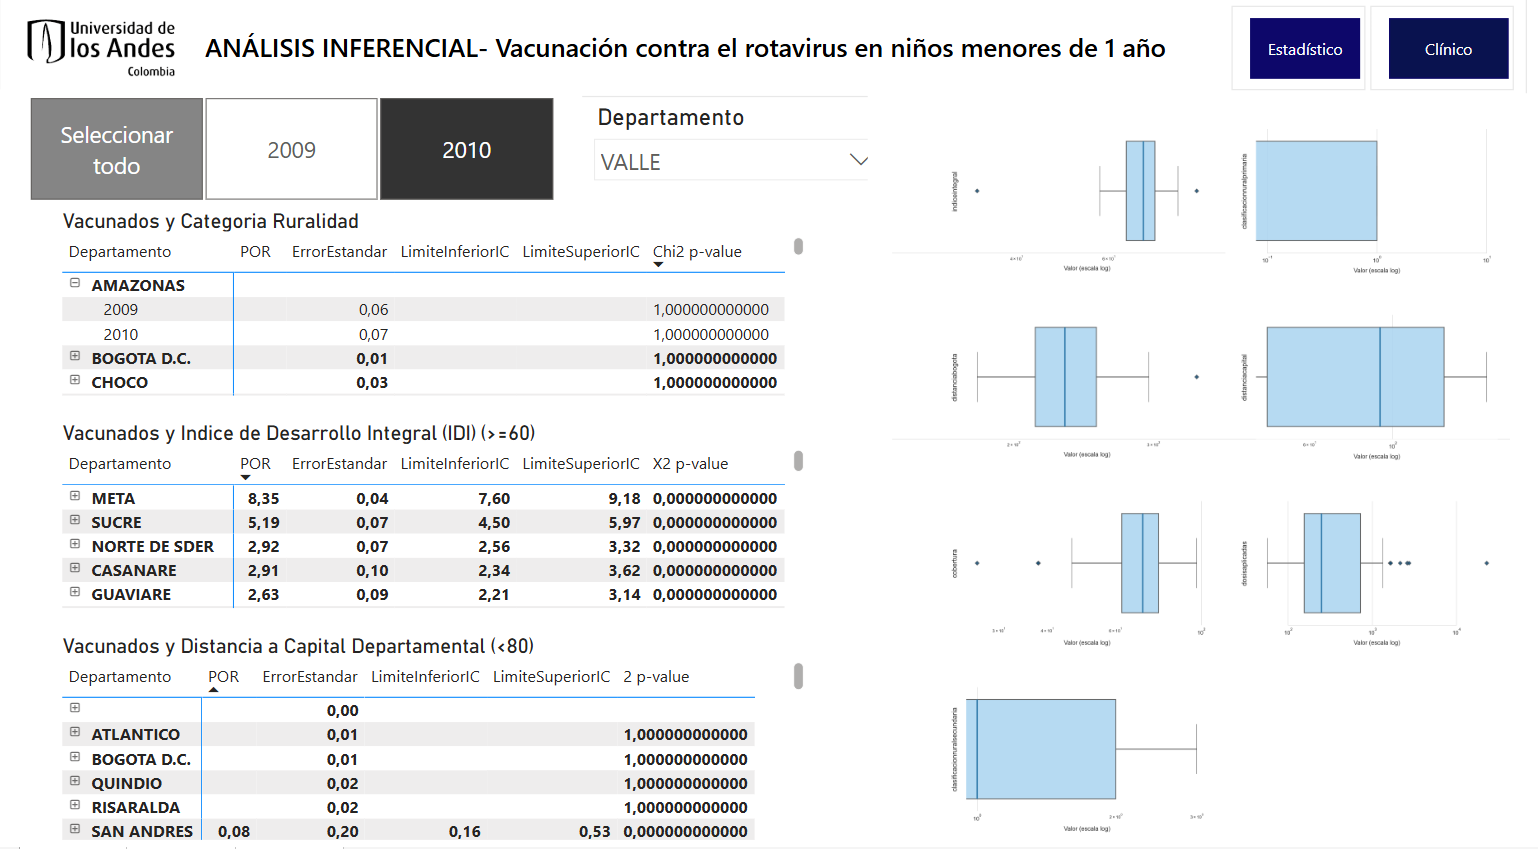

What the dashboard file says about the page in this screenshot:
{"tool":"powerbi","page":{"name":"Página 1","canvas":[1280,720],"ordinal":0},"visuals":[{"type":"group","id":"g1","title":"Group 1","box":[0,16,1264,80],"z":0},{"type":"shape","title":"null","box":[0,16,1266,84],"z":0,"group":"g1"},{"type":"image","box":[8,19,152,80],"z":0,"group":"g4"},{"type":"actionButton","box":[1036.3,33.9,91,50],"z":0,"group":"g6"},{"type":"actionButton","box":[1151.5,33.9,99,50],"z":0,"group":"g7"},{"type":"shape","title":"null","box":[896,104,384,75],"z":0,"group":"g10"},{"type":"slicer","fields":{"Values":["dimlugar.departamento"]},"box":[1088,125,191,33],"z":0,"group":"g2"},{"type":"shape","title":"null","box":[420.9,214,435,132],"z":0,"group":"g8"},{"type":"shape","title":"null","box":[421.9,352,434,97],"z":0,"group":"g12"},{"type":"shape","box":[423.9,370,430,20],"z":0,"group":"g3"},{"type":"shape","box":[487.9,417.8,312,16.2],"z":0,"group":"g5"},{"type":"shape","title":"null","box":[445.9,457,410,243],"z":0,"group":"g11"},{"type":"shape","title":"null","box":[10.9,460,427,236],"z":0,"group":"g9"},{"type":"pythonVisual","title":"Title goes here","fields":{"Values":["dimfecha.fecha","factmetricasdesarrollo.indiceintegral","dimlugar.codigomunicipio","dimlugar.departamento"]},"box":[446.9,488,407,210],"z":5,"group":"g11"},{"type":"pythonVisual","title":"Title goes here","fields":{"Values":["factmetricasdesarrollo.clasificacionruralprimaria","dimlugar.codigomunicipio"]},"box":[11.9,491,424,203],"z":5,"group":"g9"},{"type":"shape","title":"null","box":[898,125,190,20],"z":10,"group":"g2"},{"type":"shape","box":[11.9,461,424,30],"z":60,"group":"g9"},{"type":"group","id":"g2","title":"Group 1","box":[897,124,381,35],"z":70,"group":"g10"},{"type":"shape","box":[446.9,458,407,30],"z":80,"group":"g11"},{"type":"group","id":"g3","title":"Group 1","box":[423.9,370,430,64],"z":90,"group":"g12"},{"type":"group","id":"g4","title":"Group 1","box":[8,19,1258,80],"z":1000,"group":"g1"},{"type":"shape","title":"null","box":[1020.8,23.5,111,70],"z":1000},{"type":"shape","box":[160,43,1106,30],"z":1000,"group":"g4"},{"type":"shape","box":[421.9,215,431,20],"z":1000,"group":"g8"},{"type":"group","id":"g5","title":"Group 1","box":[487.9,394,312,40],"z":1000,"group":"g3"},{"type":"card","fields":{"Values":["Avg(factmetricasdesarrollo.indiceintegral)"]},"box":[575.9,394,128,24],"z":1000,"group":"g5"},{"type":"shape","title":"null","box":[1136,23.5,119,70],"z":2000},{"type":"shape","box":[421.9,289,135,30],"z":2000,"group":"g8"},{"type":"group","id":"g6","title":"Group 1","box":[1036.3,33.9,91,50],"z":3000},{"type":"shape","box":[568.9,289,135,30],"z":3000,"group":"g8"},{"type":"group","id":"g7","title":"Group 1","box":[1151.5,33.9,99,50],"z":4000},{"type":"shape","box":[715.9,289,135,30],"z":4000,"group":"g8"},{"type":"group","id":"g8","title":"Group 1","box":[420.9,214,435,132],"z":5000},{"type":"card","fields":{"Values":["Sum(factvacuna.poblacion)"]},"box":[421.9,259,135,30],"z":5000,"group":"g8"},{"type":"shape","box":[556.9,254,12,65],"z":6000,"group":"g8"},{"type":"group","id":"g9","title":"Group 1","box":[10.9,460,427,236],"z":6000},{"type":"group","id":"g10","title":"Group 1","box":[896,104,384,75],"z":7000},{"type":"card","fields":{"Values":["Sum(factvacuna.dosisaplicadas)"]},"box":[564.9,262,136,24],"z":7000,"group":"g8"},{"type":"shape","box":[703.9,259,12,65],"z":8000,"group":"g8"},{"type":"group","id":"g11","title":"Group 1","box":[445.9,457,410,243],"z":8000},{"type":"card","fields":{"Values":["Avg(factvacuna.cobertura)"]},"box":[748.9,262,72,24],"z":9000,"group":"g8"},{"type":"group","id":"g12","title":"Group 1","box":[421.9,352,434,97],"z":9000},{"type":"shapeMap","fields":{"Value":["Avg(factvacuna.cobertura)"],"Category":["dimlugar.departamento"]},"box":[880,192,384,512],"z":10000},{"type":"pythonVisual","title":"Cobertura","fields":{"Values":["dimlugar.departamento","factvacuna.cobertura","factvacuna.poblacion","dimfecha.fecha"]},"box":[8,120,360,328],"z":11000},{"type":"slicer","title":"Año","fields":{"Values":["dimfecha.fecha"]},"box":[400,96,480,96],"z":12000}]}

Visuals, with their boxes in screenshot pixels (x1, y1, x2, y2), scaled from the page's 1280x720 canvas onto the 1538x849 screenshot:
"Group 1" group: locate(0, 19, 1519, 113)
"null" shape: locate(0, 19, 1521, 118)
image: locate(10, 22, 192, 117)
actionButton: locate(1245, 40, 1355, 99)
actionButton: locate(1384, 40, 1503, 99)
"null" shape: locate(1077, 123, 1537, 211)
slicer - dimlugar.departamento: locate(1307, 147, 1537, 186)
"null" shape: locate(506, 252, 1028, 408)
"null" shape: locate(507, 415, 1028, 529)
shape: locate(509, 436, 1026, 460)
shape: locate(586, 493, 961, 512)
"null" shape: locate(536, 539, 1028, 825)
"null" shape: locate(13, 542, 526, 821)
"Title goes here" pythonVisual: locate(537, 575, 1026, 823)
"Title goes here" pythonVisual: locate(14, 579, 524, 818)
"null" shape: locate(1079, 147, 1307, 171)
shape: locate(14, 544, 524, 579)
"Group 1" group: locate(1078, 146, 1536, 187)
shape: locate(537, 540, 1026, 575)
"Group 1" group: locate(509, 436, 1026, 512)
"Group 1" group: locate(10, 22, 1521, 117)
"null" shape: locate(1227, 28, 1360, 110)
shape: locate(192, 51, 1521, 86)
shape: locate(507, 254, 1025, 277)
"Group 1" group: locate(586, 465, 961, 512)
card - Avg(factmetricasdesarrollo.indiceintegral): locate(692, 465, 846, 493)
"null" shape: locate(1365, 28, 1508, 110)
shape: locate(507, 341, 669, 376)
"Group 1" group: locate(1245, 40, 1355, 99)
shape: locate(684, 341, 846, 376)
"Group 1" group: locate(1384, 40, 1503, 99)
shape: locate(860, 341, 1022, 376)
"Group 1" group: locate(506, 252, 1028, 408)
card - Sum(factvacuna.poblacion): locate(507, 305, 669, 341)
shape: locate(669, 300, 684, 376)
"Group 1" group: locate(13, 542, 526, 821)
"Group 1" group: locate(1077, 123, 1537, 211)
card - Sum(factvacuna.dosisaplicadas): locate(679, 309, 842, 337)
shape: locate(846, 305, 860, 382)
"Group 1" group: locate(536, 539, 1028, 825)
card - Avg(factvacuna.cobertura): locate(900, 309, 986, 337)
"Group 1" group: locate(507, 415, 1028, 529)
shapeMap - Avg(factvacuna.cobertura) x dimlugar.departamento: locate(1057, 226, 1519, 830)
"Cobertura" pythonVisual: locate(10, 142, 442, 528)
"Año" slicer: locate(481, 113, 1057, 226)
